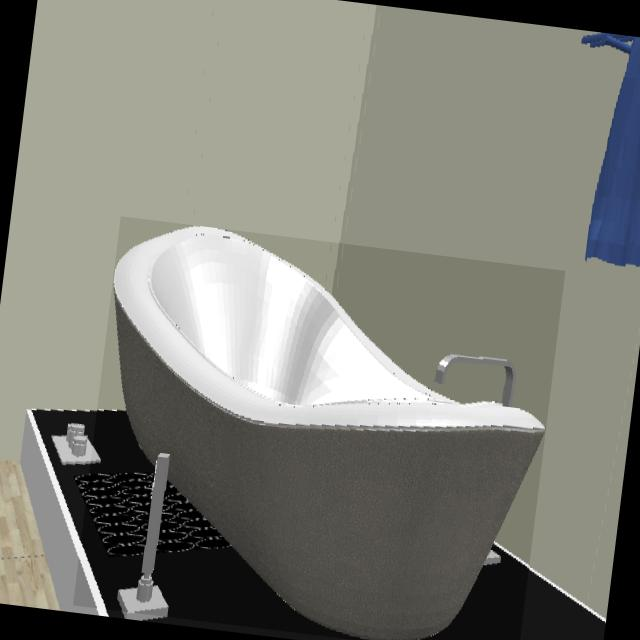bathtube: (112, 226, 545, 640)
